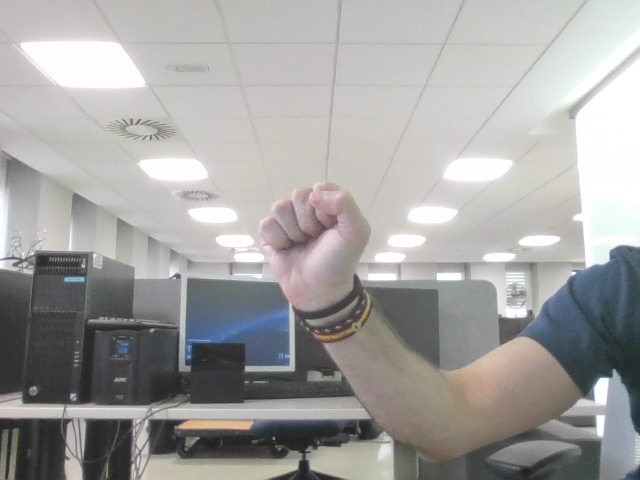Puño: (269, 190, 351, 267)
